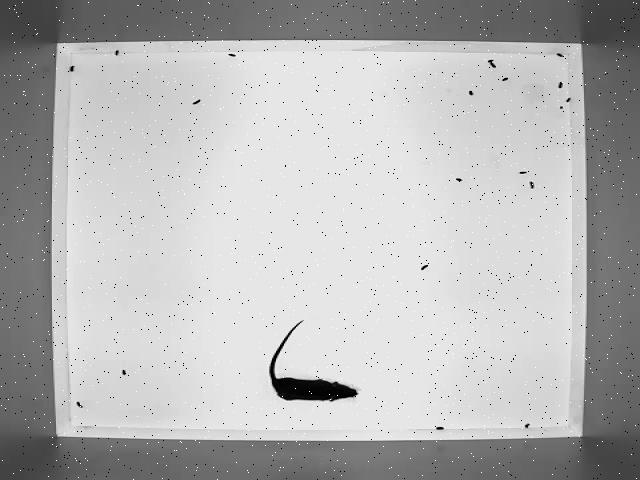Tikus: (264, 318, 360, 404)
